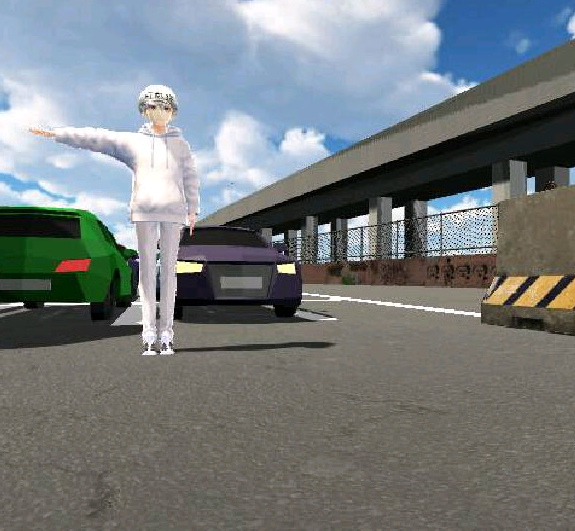singleP_left: (28, 85, 198, 359)
